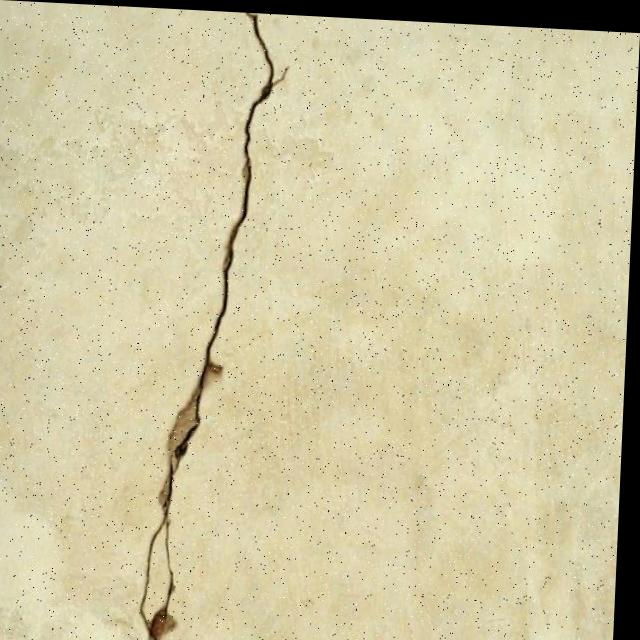Crack: (136, 6, 297, 640)
